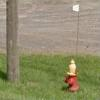Hydrant: (59, 50, 80, 98)
